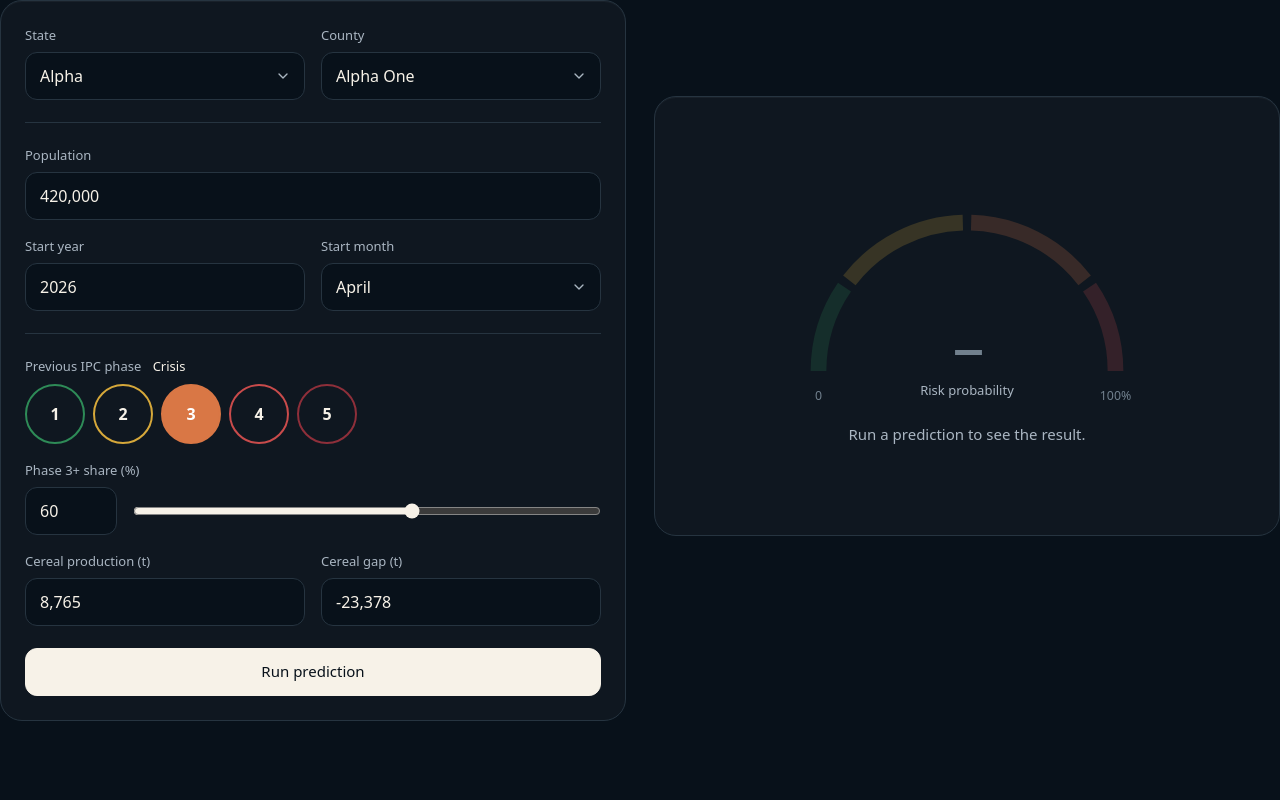
Test: PredictWorkspace › reports failures clearly (0)
Click the button "Run prediction" at [313, 672], box [25, 648, 601, 696]
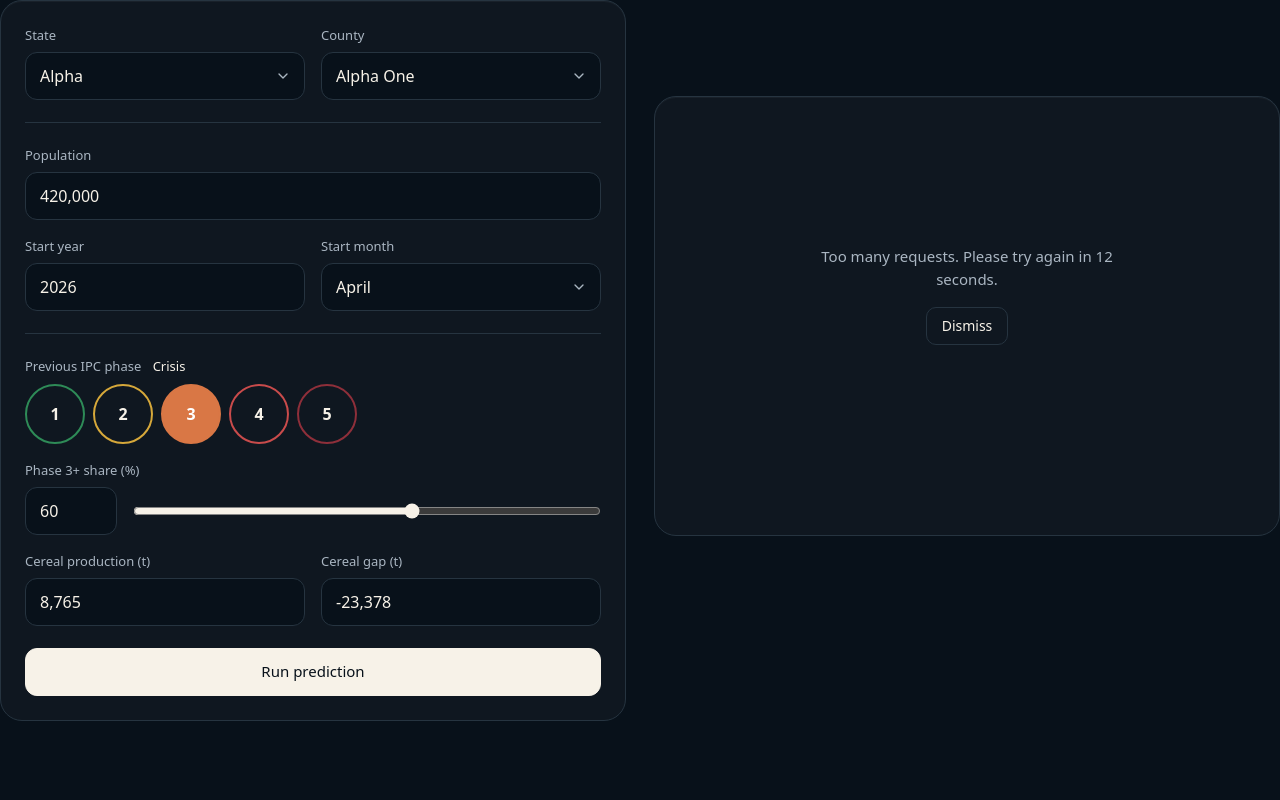
Result: the text "Too many requests. Please try again in 12 seconds." is shown at [821, 245, 1113, 291]
